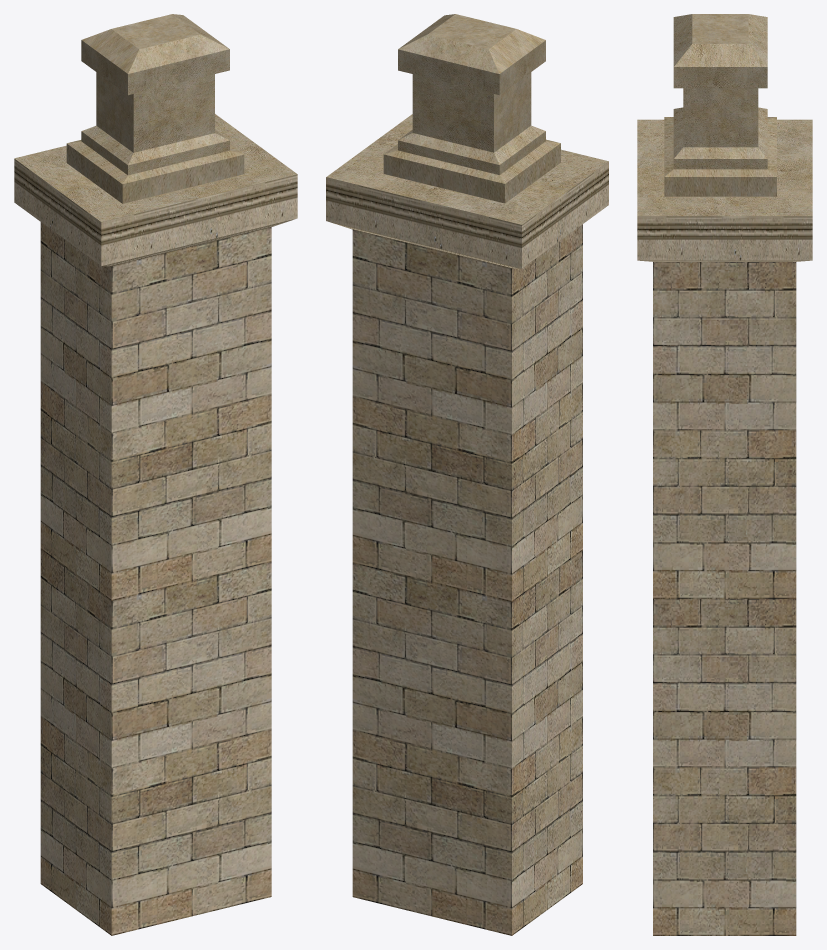
File: thm_nboo_imprv_lattice_pillar_s01_l0.fbx
3 renders of one model, left to right at view 1: azimuth 30°, elevation 25°; view 2: azimuth 150°, elevation 25°; view 3: azimuth 270°, elevation 25°, orthographic.
Visible parts, largest first — view 1: mesh_node; view 2: mesh_node; view 3: mesh_node.
Part boxes in pixels (x1,y1,x2,y2): mesh_node: (14,14,297,935); mesh_node: (326,14,608,935); mesh_node: (637,14,812,935).
Bounding box in the file's own units: 1.23 × 5.14 × 0.9445.
